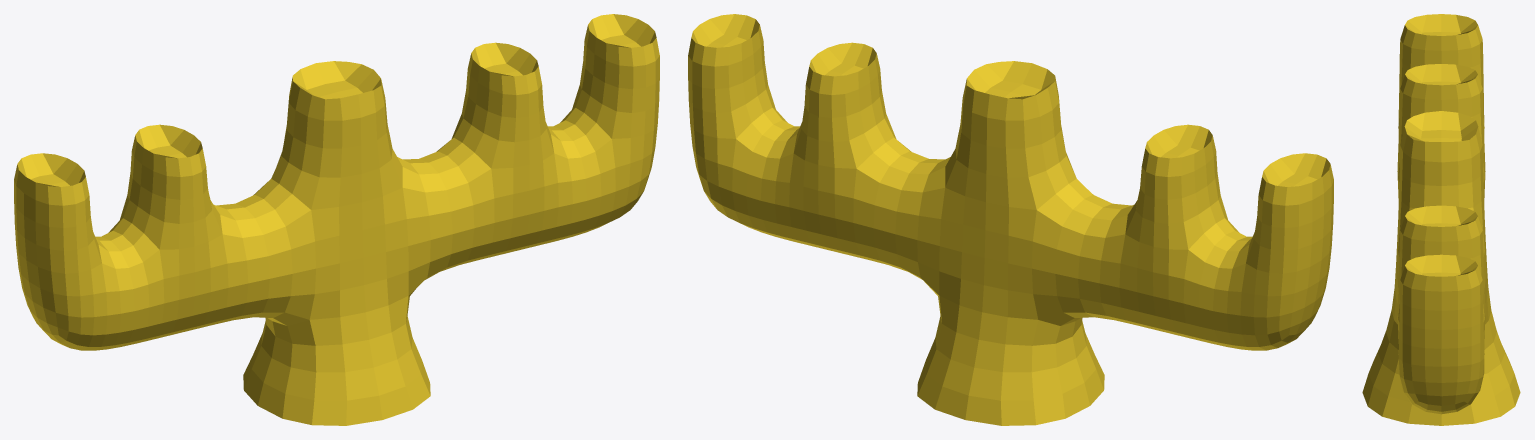
File: CandleHolder.glb
3 views of the same model, side by side, from view 1: azimuth 30°, elevation 25°; view 2: azimuth 150°, elevation 25°; view 3: azimuth 270°, elevation 25° (orthographic). The views are drawn at different scales.
Parts seen in each view (by area): view 1: Chandlier; view 2: Chandlier; view 3: Chandlier.
Boxes of the visible parts, x1,y1,x2,y2 form: Chandlier: (14, 14, 659, 425); Chandlier: (688, 14, 1333, 425); Chandlier: (1362, 14, 1520, 425).
Bounding box in the file's own units: 13.74 × 6.5 × 3.48.
